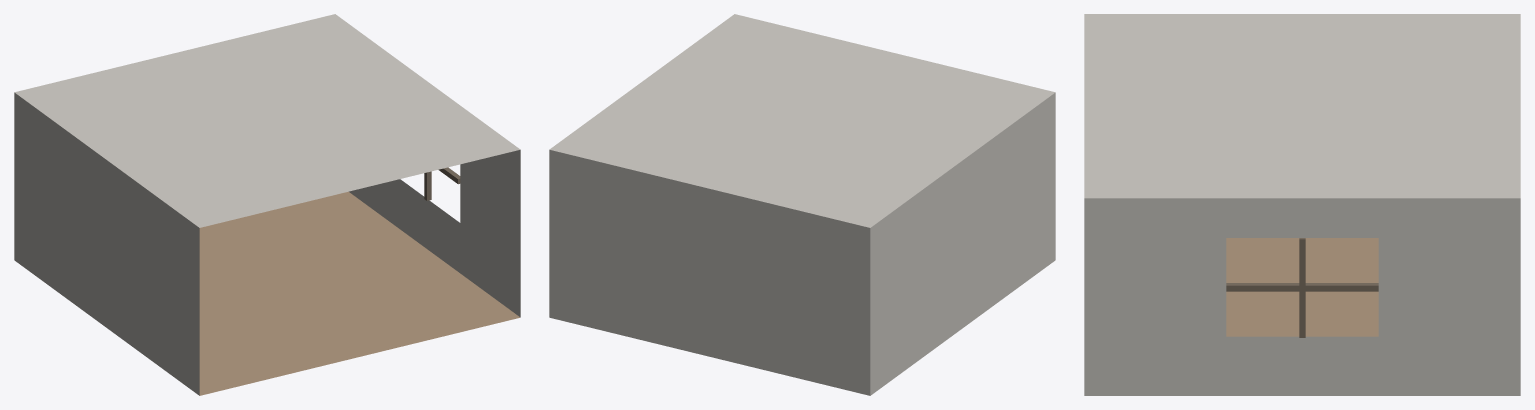
Rendered from window-room.glb.
3 renders of one model, left to right at view 1: azimuth 30°, elevation 25°; view 2: azimuth 150°, elevation 25°; view 3: azimuth 270°, elevation 25°, orthographic. The views are drawn at different scales.
Parts seen in each view (by area): view 1: window-room; view 2: window-room; view 3: window-room.
Boxes of the visible parts, x1,y1,x2,y2 form: window-room: (14, 14, 520, 395); window-room: (549, 14, 1055, 395); window-room: (1084, 14, 1520, 395).
Size of the model in its own units: 8.06 by 4 by 8.
